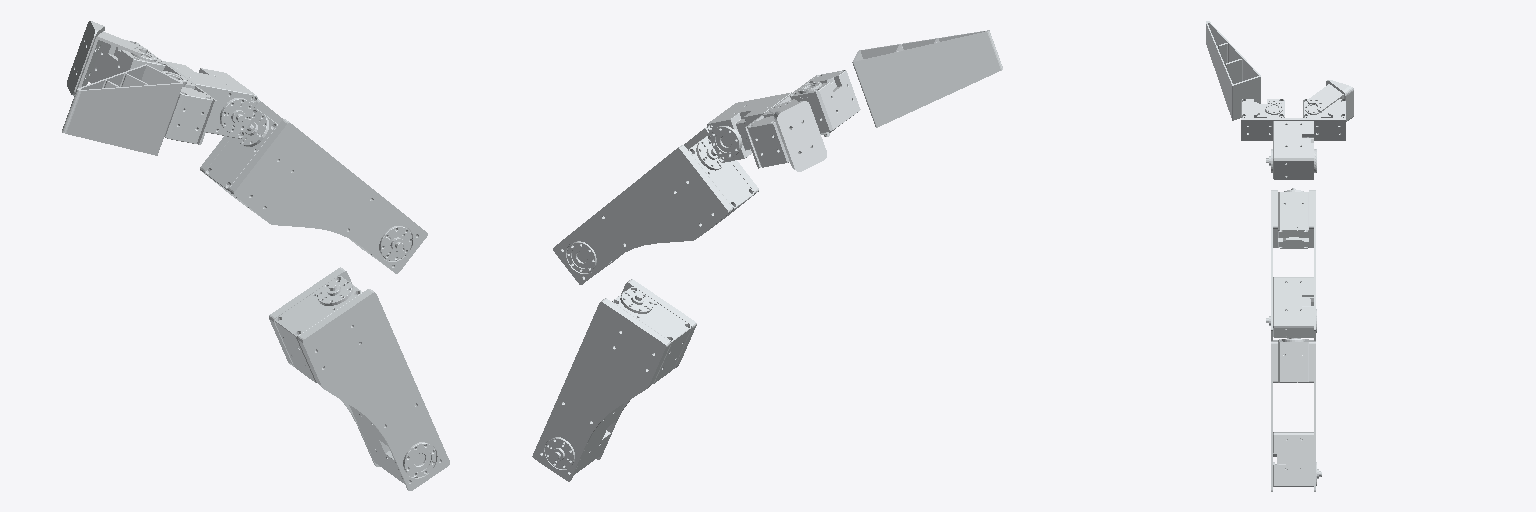
The robot description file, URDF, robot "manip_description":
<?xml version="1.0" encoding="utf-8"?>

<robot
  name="manip_description">
  <link
    name="base_link">
    <inertial>
      <origin
        xyz="0.00030938336056912 -9.89895665437501E-13 0.0229511892881233"
        rpy="0 0 0" />
      <mass
        value="0.225814419604843" />
      <inertia
        ixx="5.65453718592828E-05"
        ixy="5.00162232371705E-16"
        ixz="-1.38639831470138E-06"
        iyy="0.000101241328443196"
        iyz="-3.18870100704921E-15"
        izz="8.47747908239031E-05" />
    </inertial>
    <visual>
      <origin
        xyz="0 0 0"
        rpy="0 0 0" />
      <geometry>
        <mesh
          filename="package://manip_description/meshes/base_link.STL" />
      </geometry>
      <material
        name="">
        <color
          rgba="0.898039215686275 0.917647058823529 0.929411764705882 1" />
      </material>
    </visual>
    <collision>
      <origin
        xyz="0 0 0"
        rpy="0 0 0" />
      <geometry>
        <mesh
          filename="package://manip_description/meshes/base_link_col.STL" />
      </geometry>
    </collision>
  </link>
  <link
    name="link_1">
    <inertial>
      <origin
        xyz="0.010403379929175 1.63335446591584E-08 0.0169657675518438"
        rpy="0 0 0" />
      <mass
        value="0.0289102664622999" />
      <inertia
        ixx="2.12284942933575E-05"
        ixy="2.48129475489142E-12"
        ixz="-1.76897405605609E-06"
        iyy="1.25993311294143E-05"
        iyz="3.2054762687646E-12"
        izz="2.59552674841784E-05" />
    </inertial>
    <visual>
      <origin
        xyz="0 0 0"
        rpy="0 0 0" />
      <geometry>
        <mesh
          filename="package://manip_description/meshes/link_1.STL" />
      </geometry>
      <material
        name="">
        <color
          rgba="0.996078431372549 0.996078431372549 1 1" />
      </material>
    </visual>
    <collision>
      <origin
        xyz="0 0 0"
        rpy="0 0 0" />
      <geometry>
        <mesh
          filename="package://manip_description/meshes/link_1_col.STL" />
      </geometry>
    </collision>
  </link>
  <joint
    name="joint_1"
    type="revolute">
    <origin
      xyz="0.0155 0 0.04515"
      rpy="0 0 0" />
    <parent
      link="base_link" />
    <child
      link="link_1" />
    <axis
      xyz="0 0 1" />
    <limit
      lower="-3.14"
      upper="3.14"
      effort="8"
      velocity="5" />
  </joint>
  <link
    name="link_2">
    <inertial>
      <origin
        xyz="0.0763705857165563 0.000254475982597022 0.00808212627192917"
        rpy="0 0 0" />
      <mass
        value="0.611796741662792" />
      <inertia
        ixx="0.000193142254231562"
        ixy="4.37085471306953E-07"
        ixz="-1.72353751616987E-05"
        iyy="0.000387146626280563"
        iyz="-1.13959846344025E-12"
        izz="0.000310532195206607" />
    </inertial>
    <visual>
      <origin
        xyz="0 0 0"
        rpy="0 0 0" />
      <geometry>
        <mesh
          filename="package://manip_description/meshes/link_2.STL" />
      </geometry>
      <material
        name="">
        <color
          rgba="0.898039215686275 0.917647058823529 0.929411764705882 1" />
      </material>
    </visual>
    <collision>
      <origin
        xyz="0 0 0"
        rpy="0 0 0" />
      <geometry>
        <mesh
          filename="package://manip_description/meshes/link_2_col.STL" />
      </geometry>
    </collision>
  </link>
  <joint
    name="joint_2"
    type="revolute">
    <origin
      xyz="0.048 0 0.02285"
      rpy="3.1416 -1.1781 -3.1416" />
    <parent
      link="link_1" />
    <child
      link="link_2" />
    <axis
      xyz="0 1 0" />
    <limit
      lower="-3.14"
      upper="3.14"
      effort="8"
      velocity="5" />
  </joint>
  <link
    name="link_3">
    <inertial>
      <origin
        xyz="0.0169657676446836 1.64819090528456E-08 -0.0104033800071373"
        rpy="0 0 0" />
      <mass
        value="0.0289102660424069" />
      <inertia
        ixx="2.5955267230398E-05"
        ixy="3.22328296007298E-12"
        ixz="1.76897404833607E-06"
        iyy="1.25993310604571E-05"
        iyz="-2.56726778703582E-12"
        izz="2.12284940766909E-05" />
    </inertial>
    <visual>
      <origin
        xyz="0 0 0"
        rpy="0 0 0" />
      <geometry>
        <mesh
          filename="package://manip_description/meshes/link_3.STL" />
      </geometry>
      <material
        name="">
        <color
          rgba="0.996078431372549 0.996078431372549 1 1" />
      </material>
    </visual>
    <collision>
      <origin
        xyz="0 0 0"
        rpy="0 0 0" />
      <geometry>
        <mesh
          filename="package://manip_description/meshes/link_3_col.STL" />
      </geometry>
    </collision>
  </link>
  <joint
    name="joint_3"
    type="revolute">
    <origin
      xyz="0.1439 0 0"
      rpy="0 0 0" />
    <parent
      link="link_2" />
    <child
      link="link_3" />
    <axis
      xyz="1 0 0" />
    <limit
      lower="-3.14"
      upper="3.14"
      effort="8"
      velocity="5" />
  </joint>
  <link
    name="link_4">
    <inertial>
      <origin
        xyz="0.0763705857419602 -0.00025447598295664 0.00808212650131321"
        rpy="0 0 0" />
      <mass
        value="0.611796742118779" />
      <inertia
        ixx="0.000193142254252889"
        ixy="-4.37085476272942E-07"
        ixz="-1.72353755052685E-05"
        iyy="0.000387146626356831"
        iyz="-1.13953084591342E-12"
        izz="0.000310532195285594" />
    </inertial>
    <visual>
      <origin
        xyz="0 0 0"
        rpy="0 0 0" />
      <geometry>
        <mesh
          filename="package://manip_description/meshes/link_4.STL" />
      </geometry>
      <material
        name="">
        <color
          rgba="0.898039215686275 0.917647058823529 0.929411764705882 1" />
      </material>
    </visual>
    <collision>
      <origin
        xyz="0 0 0"
        rpy="0 0 0" />
      <geometry>
        <mesh
          filename="package://manip_description/meshes/link_4_col.STL" />
      </geometry>
    </collision>
  </link>
  <joint
    name="joint_4"
    type="revolute">
    <origin
      xyz="0.02285 0 -0.048"
      rpy="0 -0.3927 0" />
    <parent
      link="link_3" />
    <child
      link="link_4" />
    <axis
      xyz="0 -1 0" />
    <limit
      lower="-3.14"
      upper="1.0078"
      effort="8"
      velocity="5" />
  </joint>
  <link
    name="link_5">
    <inertial>
      <origin
        xyz="0.0113429838803915 -3.46944695195361E-18 0"
        rpy="0 0 0" />
      <mass
        value="0.0368976416562371" />
      <inertia
        ixx="1.95927087211338E-05"
        ixy="7.26329421268603E-21"
        ixz="-2.5410988417629E-21"
        iyy="7.36984687037621E-06"
        iyz="8.60646127431738E-21"
        izz="2.02402124370273E-05" />
    </inertial>
    <visual>
      <origin
        xyz="0 0 0"
        rpy="0 0 0" />
      <geometry>
        <mesh
          filename="package://manip_description/meshes/link_5.STL" />
      </geometry>
      <material
        name="">
        <color
          rgba="0.898039215686275 0.917647058823529 0.929411764705882 1" />
      </material>
    </visual>
    <collision>
      <origin
        xyz="0 0 0"
        rpy="0 0 0" />
      <geometry>
        <mesh
          filename="package://manip_description/meshes/link_5_col.STL" />
      </geometry>
    </collision>
  </link>
  <joint
    name="joint_5"
    type="revolute">
    <origin
      xyz="0.1439 0 0"
      rpy="0 0 0" />
    <parent
      link="link_4" />
    <child
      link="link_5" />
    <axis
      xyz="1 0 0" />
    <limit
      lower="-3.14"
      upper="3.14"
      effort="8"
      velocity="5" />
  </joint>
  <link
    name="link_6">
    <inertial>
      <origin
        xyz="0.0386040770329412 -0.000322583154717528 0.000293719089379529"
        rpy="0 0 0" />
      <mass
        value="0.482627734525522" />
      <inertia
        ixx="0.000146386226397184"
        ixy="-4.37085473836754E-07"
        ixz="-1.5900787088928E-13"
        iyy="0.000125206462596505"
        iyz="-1.1391259066856E-12"
        izz="0.000181710835049005" />
    </inertial>
    <visual>
      <origin
        xyz="0 0 0"
        rpy="0 0 0" />
      <geometry>
        <mesh
          filename="package://manip_description/meshes/link_6.STL" />
      </geometry>
      <material
        name="">
        <color
          rgba="0.898039215686275 0.917647058823529 0.929411764705882 1" />
      </material>
    </visual>
    <collision>
      <origin
        xyz="0 0 0"
        rpy="0 0 0" />
      <geometry>
        <mesh
          filename="package://manip_description/meshes/link_6_col.STL" />
      </geometry>
    </collision>
  </link>
  <joint
    name="joint_6"
    type="revolute">
    <origin
      xyz="0.03885 0 0"
      rpy="0 -0.3927 0" />
    <parent
      link="link_5" />
    <child
      link="link_6" />
    <axis
      xyz="0 -1 0" />
    <limit
      lower="-2.3645"
      upper="1.5554"
      effort="8"
      velocity="5" />
  </joint>
  <link
    name="link_7">
    <inertial>
      <origin
        xyz="0.0224717905842797 0.025995105661012 -1.86855826922461E-08"
        rpy="0 0 0" />
      <mass
        value="0.0392347304267543" />
      <inertia
        ixx="1.12762059938717E-05"
        ixy="2.39164603983455E-07"
        ixz="-1.49908527899727E-12"
        iyy="1.06667583466197E-05"
        iyz="1.51683951155461E-12"
        izz="3.59815370093277E-06" />
    </inertial>
    <visual>
      <origin
        xyz="0 0 0"
        rpy="0 0 0" />
      <geometry>
        <mesh
          filename="package://manip_description/meshes/link_7.STL" />
      </geometry>
      <material
        name="">
        <color
          rgba="0.898039215686275 0.917647058823529 0.929411764705882 1" />
      </material>
    </visual>
    <collision>
      <origin
        xyz="0 0 0"
        rpy="0 0 0" />
      <geometry>
        <mesh
          filename="package://manip_description/meshes/link_7_col.STL" />
      </geometry>
    </collision>
  </link>
  <joint
    name="joint_7"
    type="revolute">
    <origin
      xyz="0.061 0.02125 0"
      rpy="0 0 0" />
    <parent
      link="link_6" />
    <child
      link="link_7" />
    <axis
      xyz="0 0 1" />
    <limit
      lower="-0.6454"
      upper="1.5600"
      effort="8"
      velocity="5" />
  </joint>
  <link
    name="link_end7">
    <inertial>
      <origin
        xyz="0.000799651866160656 0.0665118576297725 0.000157118505166365"
        rpy="0 0 0" />
      <mass
        value="0.0535201883186937" />
      <inertia
        ixx="2.29035041365173E-05"
        ixy="-1.8272694134383E-05"
        ixz="-1.47284953313777E-11"
        iyy="5.672487088308E-05"
        iyz="-6.47534317160686E-12"
        izz="5.94928785230653E-05" />
    </inertial>
    <visual>
      <origin
        xyz="0 0 0"
        rpy="0 0 0" />
      <geometry>
        <mesh
          filename="package://manip_description/meshes/link_end7.STL" />
      </geometry>
      <material
        name="">
        <color
          rgba="0.898039215686275 0.917647058823529 0.929411764705882 1" />
      </material>
    </visual>
    <collision>
      <origin
        xyz="0 0 0"
        rpy="0 0 0" />
      <geometry>
        <mesh
          filename="package://manip_description/meshes/link_end7.STL" />
      </geometry>
    </collision>
  </link>
  <joint
    name="joint_end7"
    type="fixed">
    <origin
      xyz="0.066179 -0.02125 0"
      rpy="0 0 0" />
    <parent
      link="link_7" />
    <child
      link="link_end7" />
    <axis
      xyz="0 0 0" />
  </joint>
  <link
    name="link_8">
    <inertial>
      <origin
        xyz="0.0224717906136957 -0.0259951056906864 1.87048285194003E-08"
        rpy="0 0 0" />
      <mass
        value="0.0392347308783591" />
      <inertia
        ixx="1.1276206158873E-05"
        ixy="-2.39164622388127E-07"
        ixz="1.41986509577831E-12"
        iyy="1.06667584951978E-05"
        iyz="1.37910726152201E-12"
        izz="3.5981537434786E-06" />
    </inertial>
    <visual>
      <origin
        xyz="0 0 0"
        rpy="0 0 0" />
      <geometry>
        <mesh
          filename="package://manip_description/meshes/link_8.STL" />
      </geometry>
      <material
        name="">
        <color
          rgba="0.898039215686275 0.917647058823529 0.929411764705882 1" />
      </material>
    </visual>
    <collision>
      <origin
        xyz="0 0 0"
        rpy="0 0 0" />
      <geometry>
        <mesh
          filename="package://manip_description/meshes/link_8_col.STL" />
      </geometry>
    </collision>
  </link>
  <joint
    name="joint_8"
    type="revolute">
    <origin
      xyz="0.061 -0.02125 0"
      rpy="0 0 0" />
    <parent
      link="link_6" />
    <child
      link="link_8" />
    <axis
      xyz="0 0 1" />
    <limit
      lower="-1.5600"
      upper="0.6454"
      effort="8"
      velocity="5" />
  </joint>
  <link
    name="link_end8">
    <inertial>
      <origin
        xyz="0.000799664295637492 -0.0665118622668557 0.00015710063142943"
        rpy="0 0 0" />
      <mass
        value="0.0535202013033793" />
      <inertia
        ixx="2.29035009049597E-05"
        ixy="1.82727115379582E-05"
        ixz="3.07510207373307E-11"
        iyy="5.67249052626609E-05"
        iyz="-1.11321771779834E-11"
        izz="5.94929088813273E-05" />
    </inertial>
    <visual>
      <origin
        xyz="0 0 0"
        rpy="0 0 0" />
      <geometry>
        <mesh
          filename="package://manip_description/meshes/link_end8.STL" />
      </geometry>
      <material
        name="">
        <color
          rgba="0.898039215686275 0.917647058823529 0.929411764705882 1" />
      </material>
    </visual>
    <collision>
      <origin
        xyz="0 0 0"
        rpy="0 0 0" />
      <geometry>
        <mesh
          filename="package://manip_description/meshes/link_end8.STL" />
      </geometry>
    </collision>
  </link>
  <joint
    name="joint_end8"
    type="fixed">
    <origin
      xyz="0.0661786041848968 0.0212499999999973 0"
      rpy="0 0 0" />
    <parent
      link="link_8" />
    <child
      link="link_end8" />
    <axis
      xyz="0 0 0" />
  </joint>
</robot>

--- What the picture shows (computed from the rendered views, not written in the file) ---
The picture shows the robot from 3 angles, left to right: view 1: azimuth 30°, elevation 25°; view 2: azimuth 150°, elevation 25°; view 3: azimuth 270°, elevation 25°; orthographic projection.
Robot: manip_description — 11 links, 10 joints (8 revolute, 2 fixed); root link base_link; default pose: every joint at zero.
Links seen in each view (by area): view 1: link_2, link_4, link_end8, link_6, link_7; view 2: link_2, link_4, link_end8, link_6, link_7; view 3: link_4, link_6, link_2, link_end8, link_7.
Boxes of the visible links, bbox=[...] form: link_2: bbox=[269, 267, 449, 490]; link_4: bbox=[200, 99, 427, 273]; link_end8: bbox=[62, 64, 183, 155]; link_6: bbox=[88, 40, 257, 144]; link_7: bbox=[67, 21, 147, 95]; link_2: bbox=[532, 279, 696, 481]; link_4: bbox=[553, 127, 758, 284]; link_end8: bbox=[852, 30, 1002, 127]; link_6: bbox=[707, 70, 860, 168]; link_7: bbox=[769, 99, 826, 171]; link_4: bbox=[1266, 188, 1316, 340]; link_6: bbox=[1241, 99, 1345, 179]; link_2: bbox=[1271, 338, 1321, 491]; link_end8: bbox=[1206, 21, 1260, 120]; link_7: bbox=[1307, 80, 1353, 121].
Bounding box of the posed robot: 0.3548 × 0.1595 × 0.4116 m (x, y, z).
Meshes: 11 distinct files referenced, 5 mesh visuals loaded (5 binary STL); not drawn: 6 (reference not matched to a file when rendering).